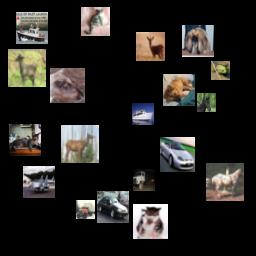airplane: (23, 166, 55, 198)
automobile: (160, 137, 195, 172), (97, 191, 129, 223)
cat: (133, 204, 168, 239), (9, 124, 41, 156), (81, 7, 110, 36)
deer: (61, 125, 99, 163), (8, 49, 46, 87), (50, 68, 85, 103), (136, 32, 165, 61)
dog: (182, 25, 214, 57), (163, 74, 195, 106)
frog: (211, 61, 230, 80)
ship: (16, 12, 48, 44), (132, 103, 154, 125)
truck: (133, 169, 155, 191), (76, 200, 95, 219)
